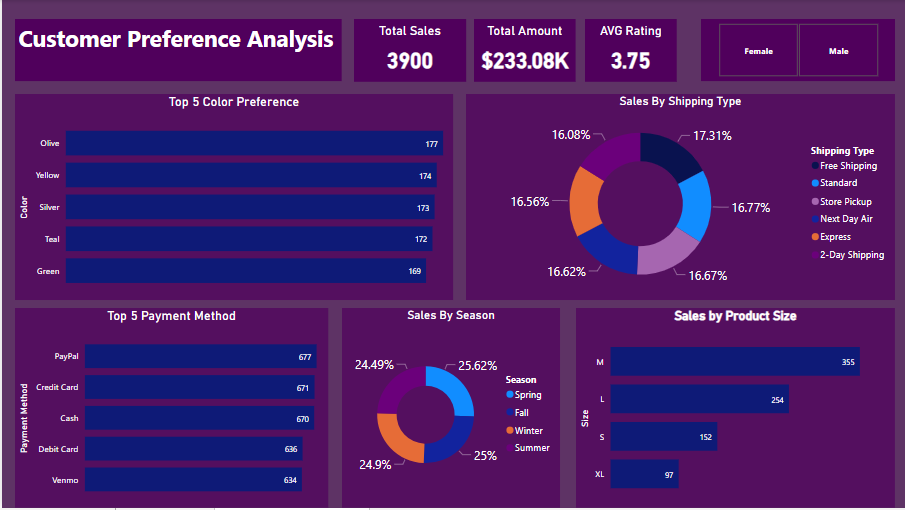

This screenshot's page, from the dashboard's own definition file:
{"tool":"powerbi","page":{"name":"Customer Preference","canvas":[1280,720],"ordinal":1},"visuals":[{"type":"card","title":"Total Sales","fields":{"Values":["CountNonNull(shopping_trends_updated.Customer ID)"]},"box":[498.6,27.1,158.6,88.6],"z":0},{"type":"card","title":"Total Amount","fields":{"Values":["Sum(shopping_trends_updated.Purchase Amount (USD))"]},"box":[668.6,27.1,144.3,88.6],"z":1000},{"type":"card","title":"AVG Rating","fields":{"Values":["Avg(shopping_trends_updated.Review Rating)"]},"box":[825.7,27.1,130,88.6],"z":2000},{"type":"slicer","fields":{"Values":["shopping_trends_updated.Gender"]},"box":[990.7,26.9,275,87.9],"z":3000},{"type":"barChart","title":"Top 5 Color Preference","fields":{"Category":["shopping_trends_updated.Color"],"Y":["CountNonNull(shopping_trends_updated.Customer ID)"]},"box":[19.1,133.9,620.9,292.2],"z":4000},{"type":"barChart","title":"Sales by Product Size","fields":{"Y":["CountNonNull(shopping_trends_updated.Customer ID)"],"Category":["shopping_trends_updated.Size"]},"box":[813.5,436.5,452.1,283.5],"z":5000},{"type":"barChart","title":"Top 5 Payment Method","fields":{"Category":["shopping_trends_updated.Payment Method"],"Y":["CountNonNull(shopping_trends_updated.Customer ID)"]},"box":[18.4,436.5,443.6,283.5],"z":6000},{"type":"donutChart","title":"Sales By Season","fields":{"Category":["shopping_trends_updated.Season"],"Y":["CountNonNull(shopping_trends_updated.Customer ID)"]},"box":[481.9,436.5,309,283.5],"z":7000},{"type":"donutChart","title":"Sales By Shipping Type","fields":{"Y":["CountNonNull(shopping_trends_updated.Customer ID)"],"Category":["shopping_trends_updated.Shipping Type"]},"box":[657.6,133.2,608,292],"z":8000},{"type":"textbox","box":[18.4,26.9,463.5,87.9],"z":9000}]}

Visuals, with their boxes in screenshot pixels (x1, y1, x2, y2), scaled from the page's 1280x720 canvas onto the 905x510 screenshot:
"Total Sales" card: 353,19,465,82
"Total Amount" card: 473,19,575,82
"AVG Rating" card: 584,19,676,82
slicer - shopping_trends_updated.Gender: 700,19,895,81
"Top 5 Color Preference" barChart: 14,95,452,302
"Sales by Product Size" barChart: 575,309,895,509
"Top 5 Payment Method" barChart: 13,309,327,509
"Sales By Season" donutChart: 341,309,559,509
"Sales By Shipping Type" donutChart: 465,94,895,301
textbox: 13,19,341,81
